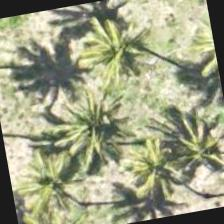Kelapa_Sawit: (99, 119, 203, 223), (52, 75, 156, 178), (72, 0, 177, 97), (4, 128, 103, 223), (140, 95, 223, 199)
